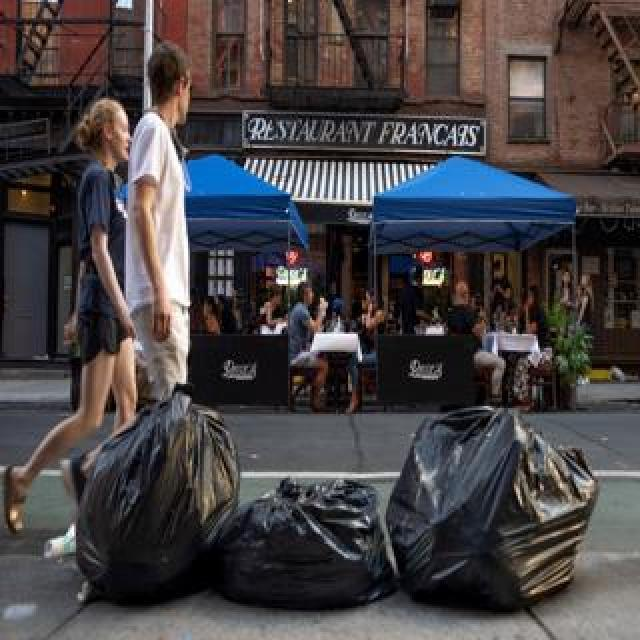high trash: (71, 391, 598, 609)
